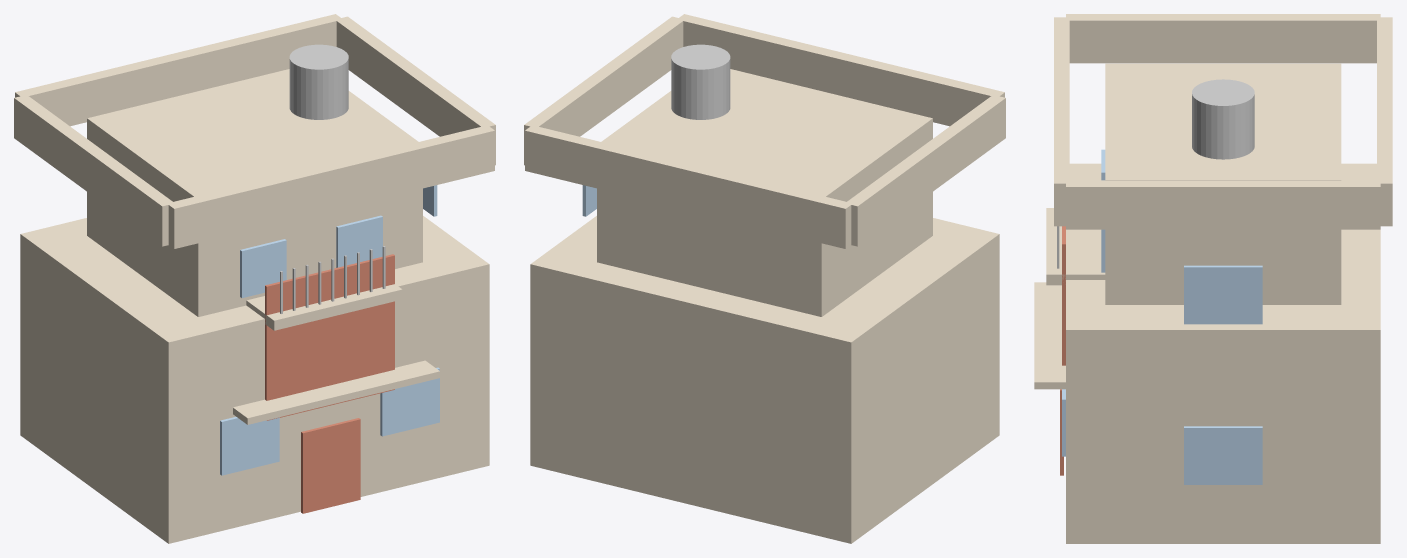
The model's file is House1.glb.
3 renders of one model, left to right at view 1: azimuth 30°, elevation 25°; view 2: azimuth 150°, elevation 25°; view 3: azimuth 270°, elevation 25°, orthographic. The views are drawn at different scales.
Visible parts, largest first — view 1: MainHouse, UpperFloor, ParapetFront, FrontAccent, ParapetBack, ParapetLeft, ParapetRight, Door, Cylinder, Sunshade, Window, Window.001 (+3 smaller); view 2: MainHouse, UpperFloor, ParapetBack, ParapetFront, ParapetLeft, ParapetRight, Cylinder; view 3: MainHouse, UpperFloor, ParapetRight, ParapetLeft, SideWindow.001, Cylinder, SideWindow, ParapetBack, ParapetFront, Sunshade, BalconyBase, FrontAccent.
Boxes of the visible parts, left/top/right/bottom form: MainHouse: left=20, top=216, right=489, bottom=543; UpperFloor: left=87, top=69, right=422, bottom=316; ParapetFront: left=168, top=125, right=494, bottom=248; FrontAccent: left=265, top=254, right=394, bottom=420; ParapetBack: left=15, top=14, right=342, bottom=126; ParapetLeft: left=14, top=96, right=174, bottom=246; ParapetRight: left=336, top=16, right=495, bottom=165; Door: left=301, top=418, right=360, bottom=513; Cylinder: left=289, top=44, right=348, bottom=119; Sunshade: left=233, top=360, right=440, bottom=424; Window: left=220, top=417, right=279, bottom=475; Window.001: left=380, top=367, right=439, bottom=436; MainHouse: left=530, top=216, right=999, bottom=543; UpperFloor: left=597, top=69, right=932, bottom=316; ParapetBack: left=525, top=125, right=852, bottom=248; ParapetFront: left=677, top=14, right=1004, bottom=126; ParapetLeft: left=845, top=96, right=1005, bottom=246; ParapetRight: left=524, top=16, right=683, bottom=165; Cylinder: left=671, top=44, right=730, bottom=119; MainHouse: left=1066, top=163, right=1380, bottom=543; UpperFloor: left=1105, top=63, right=1341, bottom=304; ParapetRight: left=1066, top=180, right=1380, bottom=229; ParapetLeft: left=1066, top=14, right=1380, bottom=63; SideWindow.001: left=1184, top=265, right=1262, bottom=324; Cylinder: left=1192, top=79, right=1254, bottom=159; SideWindow: left=1184, top=426, right=1262, bottom=484; ParapetBack: left=1377, top=17, right=1392, bottom=226; ParapetFront: left=1054, top=17, right=1069, bottom=226; Sunshade: left=1034, top=282, right=1065, bottom=389; BalconyBase: left=1046, top=208, right=1105, bottom=285; FrontAccent: left=1062, top=226, right=1065, bottom=365.
Size of the model in its own units: 10.4 by 11.25 by 9.1.
